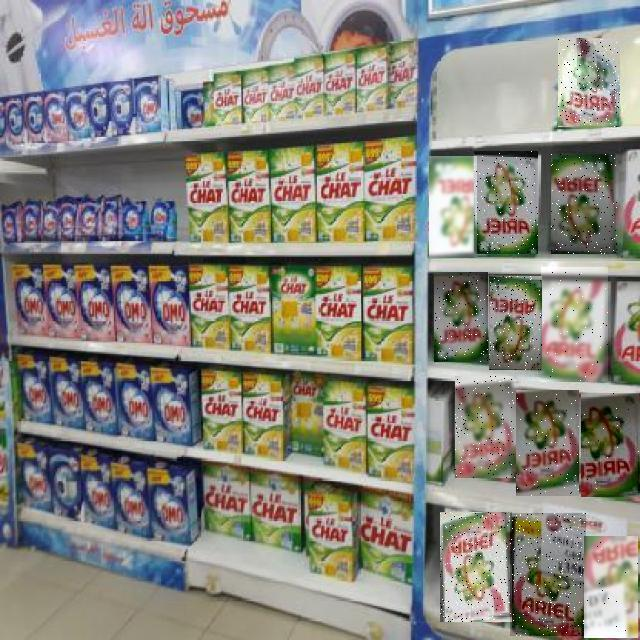Detergent: (511, 513, 587, 636), (440, 512, 512, 622), (542, 267, 610, 382), (516, 390, 579, 496), (552, 154, 618, 254), (474, 151, 538, 254), (581, 393, 640, 497), (456, 376, 516, 478), (558, 38, 620, 127), (585, 537, 639, 639), (489, 276, 542, 370), (429, 157, 477, 259), (434, 272, 488, 362)
